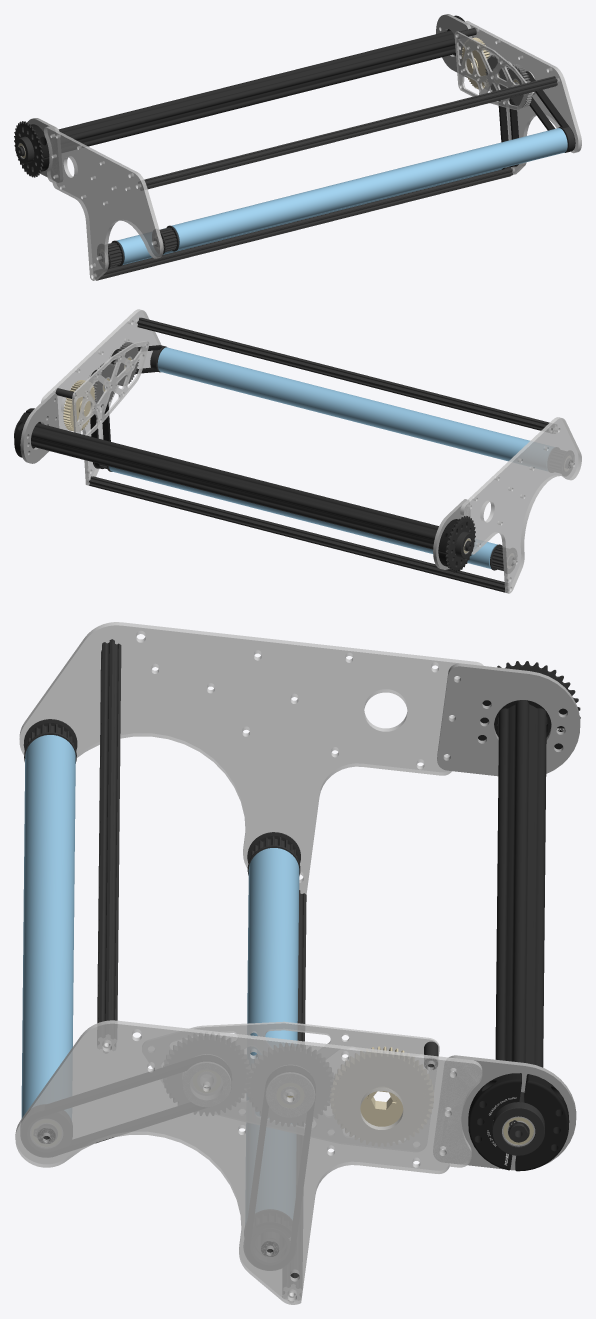
The picture shows the model from 3 angles, top to bottom: view 1: azimuth 30°, elevation 25°; view 2: azimuth 150°, elevation 25°; view 3: azimuth 270°, elevation 25°; orthographic projection. The views are drawn at different scales.
Visible parts, largest first — view 1: Intake Plate (×2), Long Roller, SplineXL ( 26.01" L), 1/2" Hex Lite (24.875" L) (×2), Intake motor plate, Mount Plate to Torque Tube (×2), 65 Tooth x 9mm HTD5 Belt (×2), Short Roller, 36t Aluminum Sprocket (#25, SplineXL Bore), 20t Pulley w/ 1-1/8" OD Aluminum Stub Roller Hub (5mm HTD) (×2), 52t Aluminum Spur Gear (20 DP, 1/2" Hex Bore), 44t 20dp spur gear; view 2: Intake Plate (×2), SplineXL ( 26.01" L), Long Roller, 1/2" Hex Lite (24.875" L) (×2), Intake motor plate, Short Roller, Mount Plate to Torque Tube (×2), 36t Aluminum Sprocket (#25, SplineXL Bore), 44t 20dp spur gear (×2), 52t Aluminum Spur Gear (20 DP, 1/2" Hex Bore), 65 Tooth x 9mm HTD5 Belt; view 3: Intake Plate (×2), Long Roller, SplineXL ( 26.01" L), Mount Plate to Torque Tube (×2), 1/2" Hex Lite (24.875" L) (×2), Short Roller, Intake motor plate, REV-21-2581-P01, REV-21-2581-P01_1, 20t Pulley w/ 1-1/8" OD Aluminum Stub Roller Hub (5mm HTD) (×2), HTD5 20 Tooth Custom Pulley (×2), SplineXL ID Aluminum Stub Roller Hub (+1 smaller).
Part boxes in pixels (bbox=[...]): Intake Plate (×2): bbox=[44, 21, 581, 280]; Long Roller: bbox=[171, 128, 567, 250]; SplineXL ( 26.01" L): bbox=[58, 30, 455, 146]; 1/2" Hex Lite (24.875" L) (×2): bbox=[96, 76, 557, 280]; Intake motor plate: bbox=[454, 31, 528, 110]; Mount Plate to Torque Tube (×2): bbox=[27, 14, 472, 182]; 65 Tooth x 9mm HTD5 Belt (×2): bbox=[498, 66, 575, 166]; Short Roller: bbox=[116, 168, 502, 264]; 36t Aluminum Sprocket (#25, SplineXL Bore): bbox=[14, 121, 43, 177]; 20t Pulley w/ 1-1/8" OD Aluminum Stub Roller Hub (5mm HTD) (×2): bbox=[107, 225, 178, 269]; 52t Aluminum Spur Gear (20 DP, 1/2" Hex Bore): bbox=[461, 37, 489, 89]; 44t 20dp spur gear: bbox=[506, 64, 532, 107]; Intake Plate (×2): bbox=[41, 309, 581, 593]; SplineXL ( 26.01" L): bbox=[31, 423, 438, 549]; Long Roller: bbox=[157, 347, 529, 461]; 1/2" Hex Lite (24.875" L) (×2): bbox=[89, 317, 556, 592]; Intake motor plate: bbox=[72, 341, 149, 436]; Short Roller: bbox=[109, 466, 497, 568]; Mount Plate to Torque Tube (×2): bbox=[20, 393, 470, 569]; 36t Aluminum Sprocket (#25, SplineXL Bore): bbox=[445, 516, 475, 572]; 44t 20dp spur gear (×2): bbox=[93, 342, 138, 406]; 52t Aluminum Spur Gear (20 DP, 1/2" Hex Bore): bbox=[63, 380, 95, 431]; 65 Tooth x 9mm HTD5 Belt: bbox=[90, 369, 110, 468]; Intake Plate (×2): bbox=[15, 622, 483, 1304]; Long Roller: bbox=[21, 735, 75, 1118]; SplineXL ( 26.01" L): bbox=[495, 700, 546, 1102]; Mount Plate to Torque Tube (×2): bbox=[433, 663, 580, 1170]; 1/2" Hex Lite (24.875" L) (×2): bbox=[97, 639, 306, 1301]; Short Roller: bbox=[247, 848, 299, 1055]; Intake motor plate: bbox=[151, 1021, 439, 1068]; REV-21-2581-P01: bbox=[468, 1073, 521, 1170]; REV-21-2581-P01_1: bbox=[515, 1074, 569, 1171]; 20t Pulley w/ 1-1/8" OD Aluminum Stub Roller Hub (5mm HTD) (×2): bbox=[23, 719, 300, 875]; HTD5 20 Tooth Custom Pulley (×2): bbox=[182, 1063, 314, 1117]; SplineXL ID Aluminum Stub Roller Hub: bbox=[492, 1102, 544, 1155].
Bounding box in the file's own units: 0.6864 × 0.212 × 0.3736.
